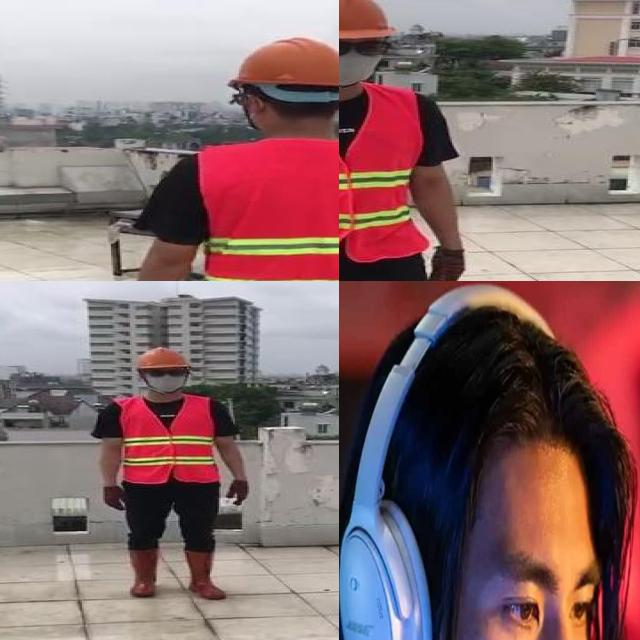Ear-protection: (340, 339, 632, 640)
No_Glasses: (475, 523, 598, 640)
boots: (182, 551, 224, 601), (125, 546, 162, 598)
face_mask: (339, 33, 388, 86), (141, 365, 187, 392)
glasses: (339, 34, 390, 58), (139, 364, 189, 380)
hand_glove: (427, 243, 466, 281), (100, 487, 128, 513), (226, 478, 251, 505)
head_helmet: (88, 344, 262, 602), (223, 32, 339, 93), (339, 0, 399, 40), (126, 346, 192, 370)
person: (113, 27, 339, 281), (339, 0, 490, 281)
vest: (198, 139, 339, 281), (339, 87, 430, 267), (117, 395, 219, 485)
